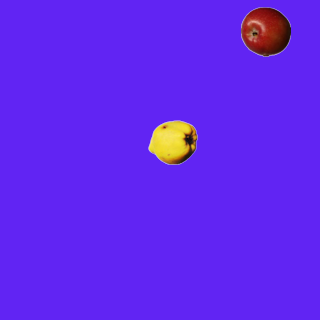Apple Braeburn: (240, 6, 290, 56)
Quince: (147, 117, 197, 167)
